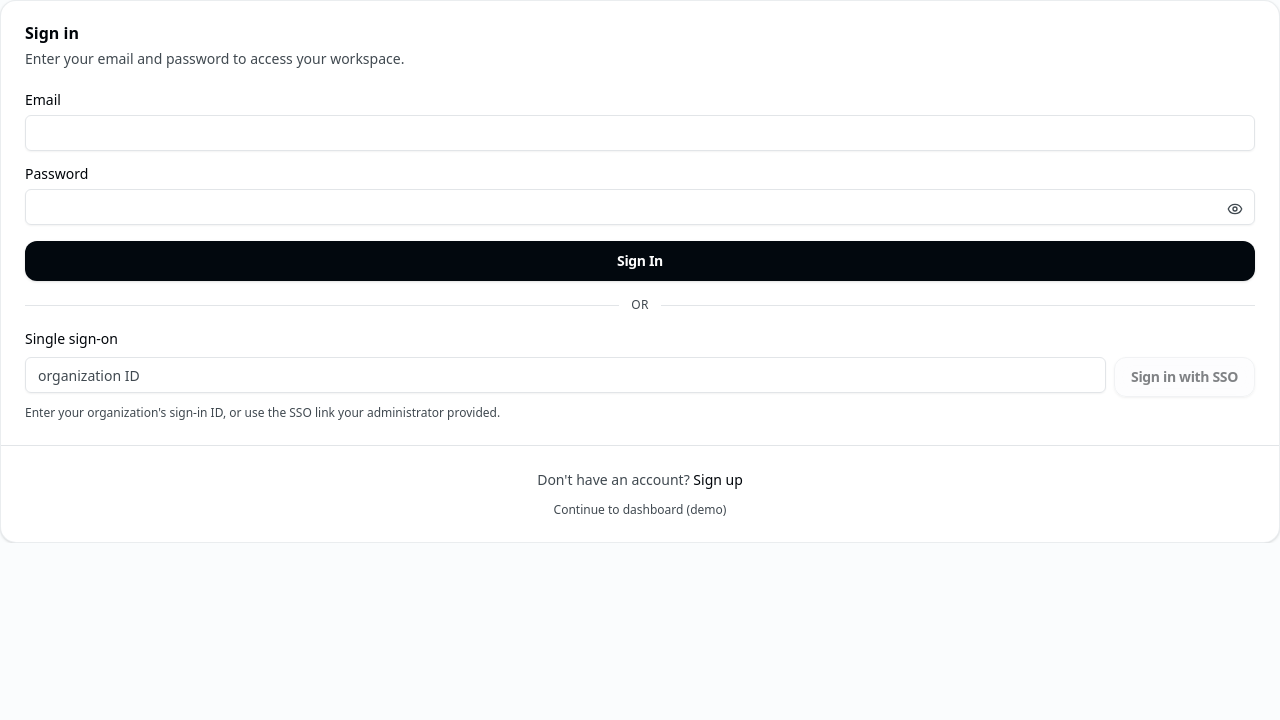
it: landing page auth forms › signs in from the landing page and stores admin access
Step 1. Type "user@example.com" into the field labelled "Email" → [640, 133], box [25,115,1255,151]
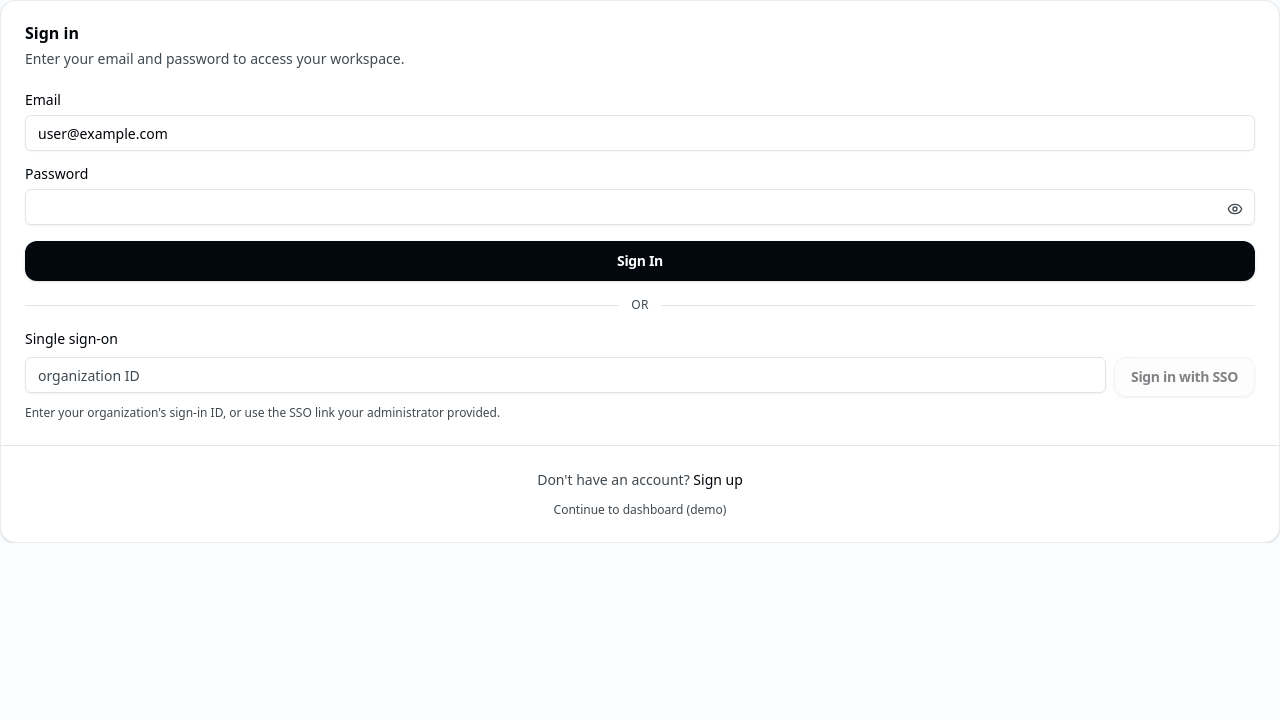
Step 2. Type "StrongPassword123!" into the password field labelled "Password" → [640, 207], box [25,189,1255,225]
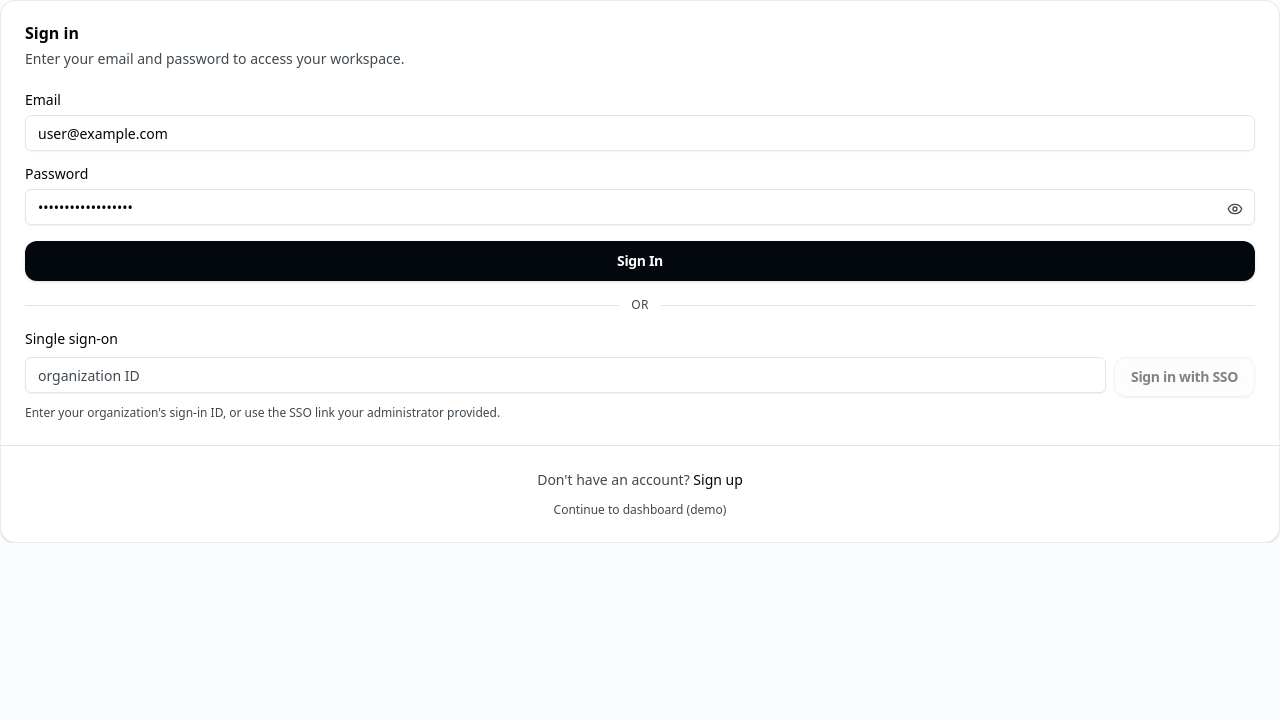
Step 3. Click the button "Sign In" → [640, 261], box [25,241,1255,281]
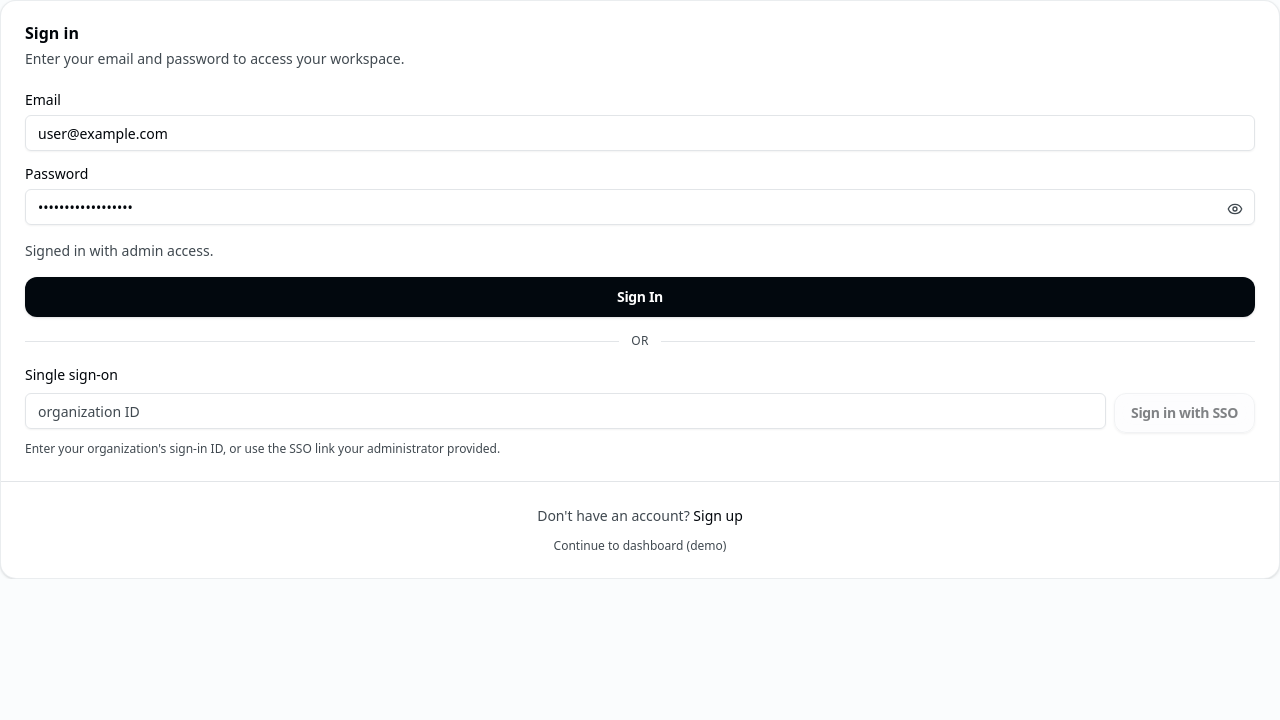
Check: the message reads "Signed in with admin access.", box [25,241,213,260]
